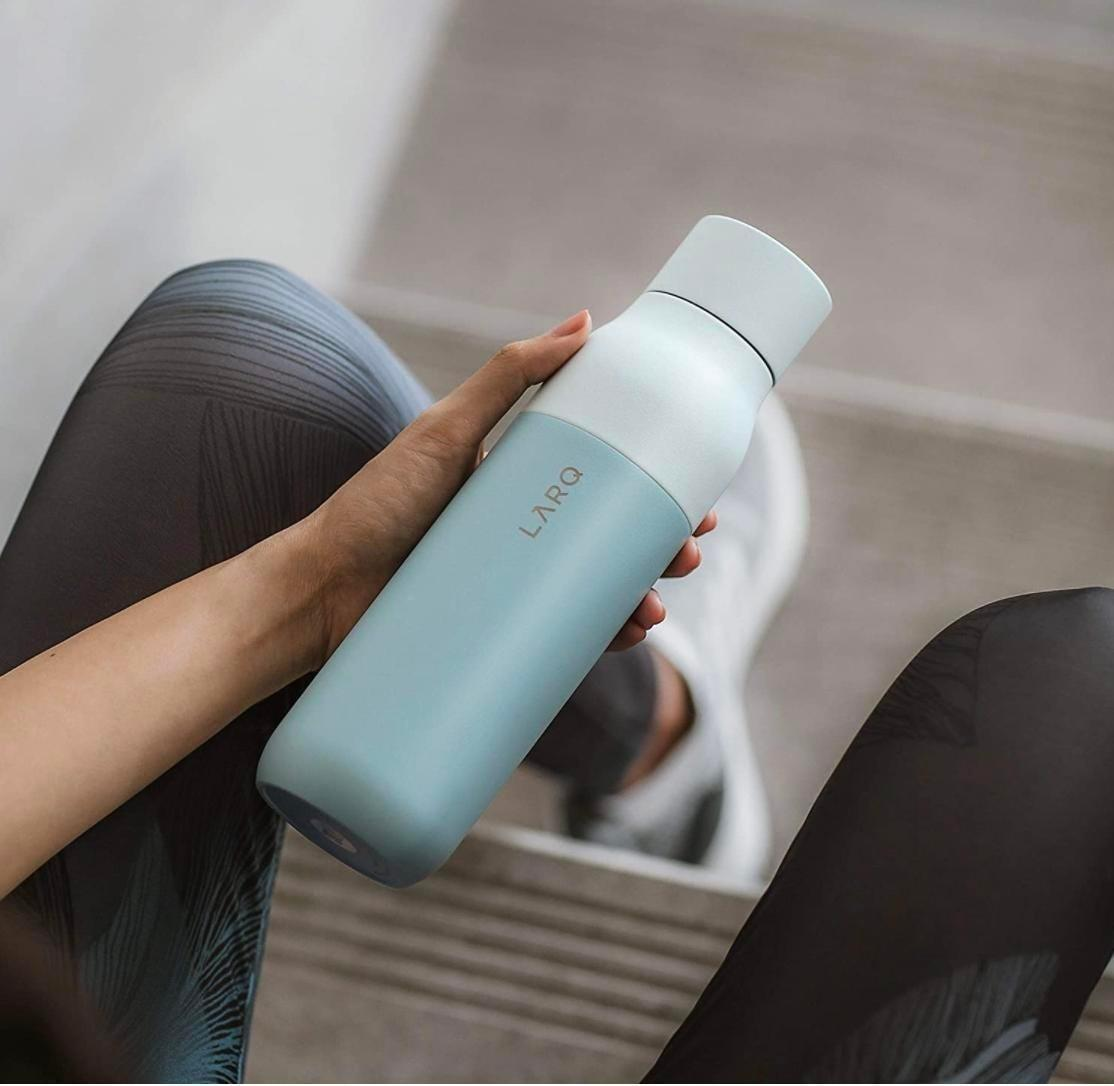gym bottle: (252, 214, 831, 886)
